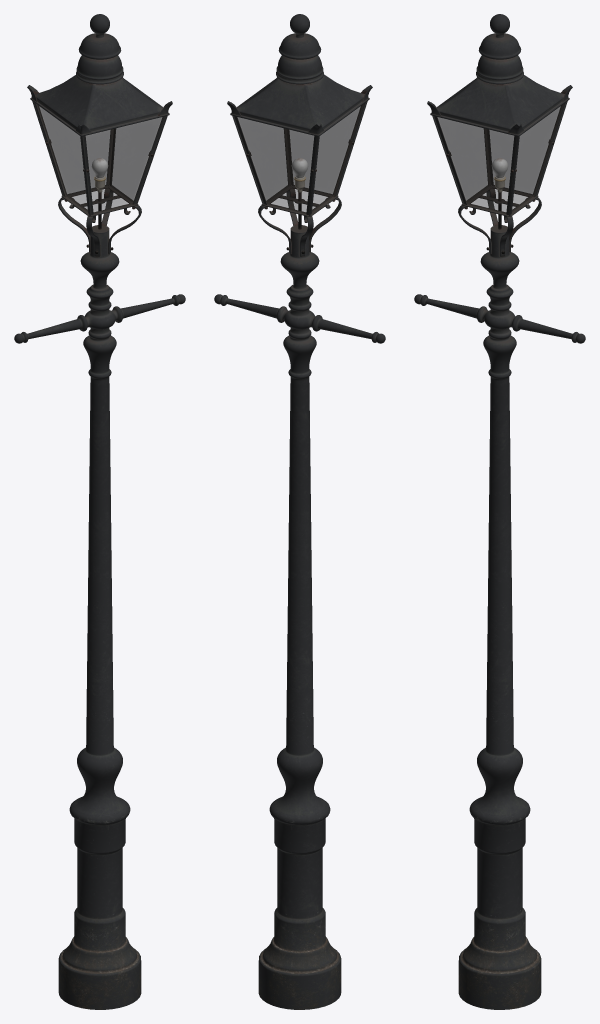
Rendered from farol.glb.
The picture shows the model from 3 angles, left to right: view 1: azimuth 30°, elevation 25°; view 2: azimuth 150°, elevation 25°; view 3: azimuth 330°, elevation 25°; orthographic projection.
Visible parts, largest first — view 1: street_lamp_01; view 2: street_lamp_01; view 3: street_lamp_01.
Part boxes in pixels (<box>): street_lamp_01: <box>14,14,185,1009</box>; street_lamp_01: <box>214,14,385,1009</box>; street_lamp_01: <box>414,14,585,1009</box>.
Size of the model in its own units: 0.7043 by 3.87 by 0.3865.
Materials: 3 (3 with a texture image).
